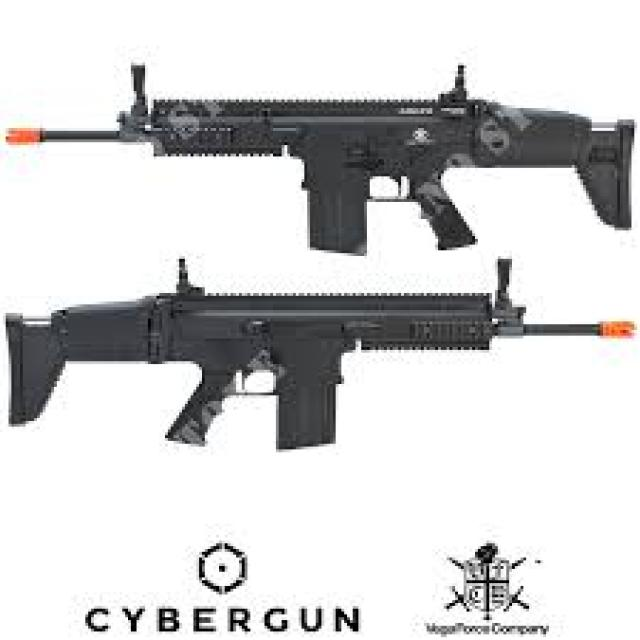Gun: (0, 62, 640, 267), (0, 266, 640, 464)
